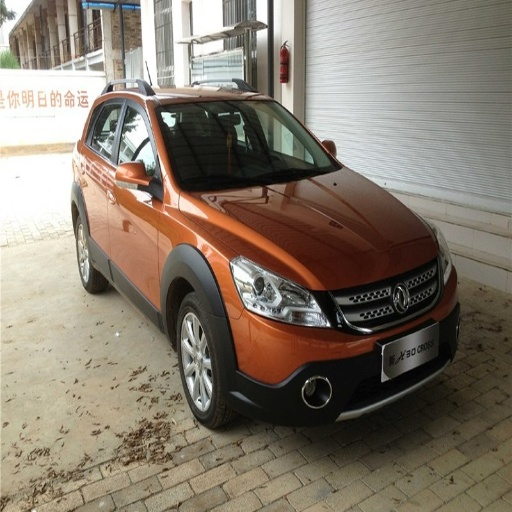front_bumper: (229, 279, 454, 416)
front_right_door: (109, 95, 161, 304)
front_right_light: (232, 255, 331, 328)
hood: (189, 169, 441, 323)
